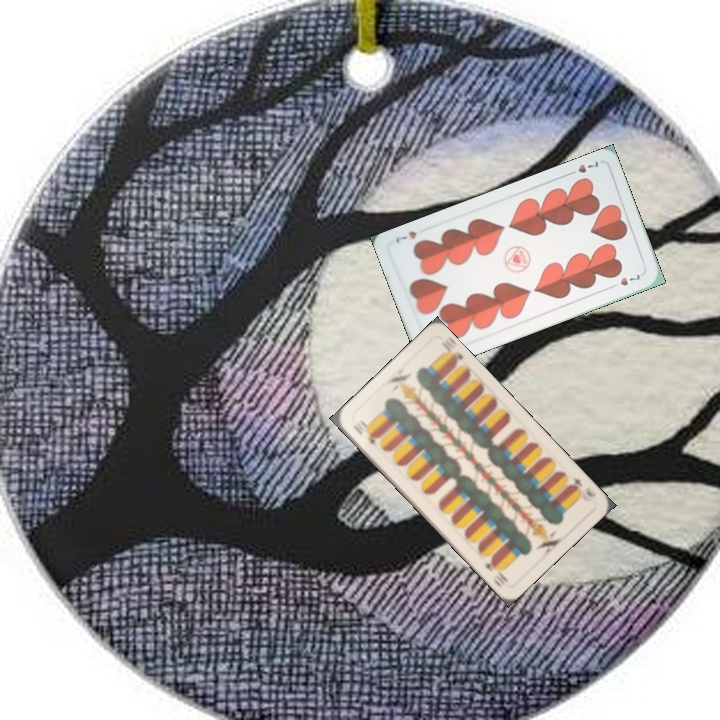E10: (565, 473, 599, 500), (349, 417, 378, 447)
H7: (563, 156, 601, 178)
